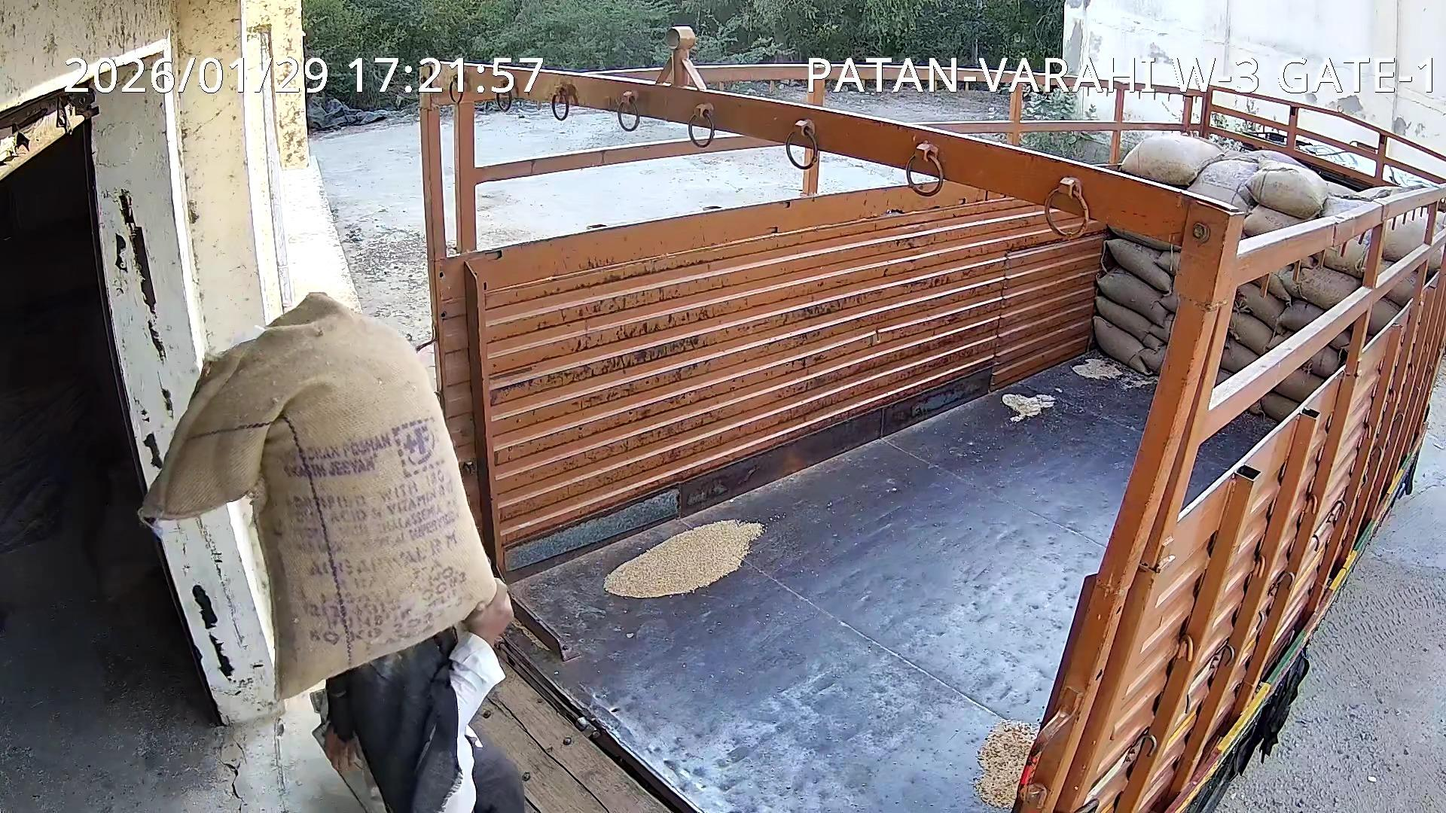Sack: (141, 292, 495, 699)
